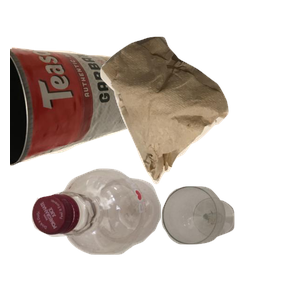glass: (159, 184, 300, 300)
metal: (10, 44, 151, 203)
plastic: (29, 166, 183, 300)
trash: (98, 34, 300, 211)
